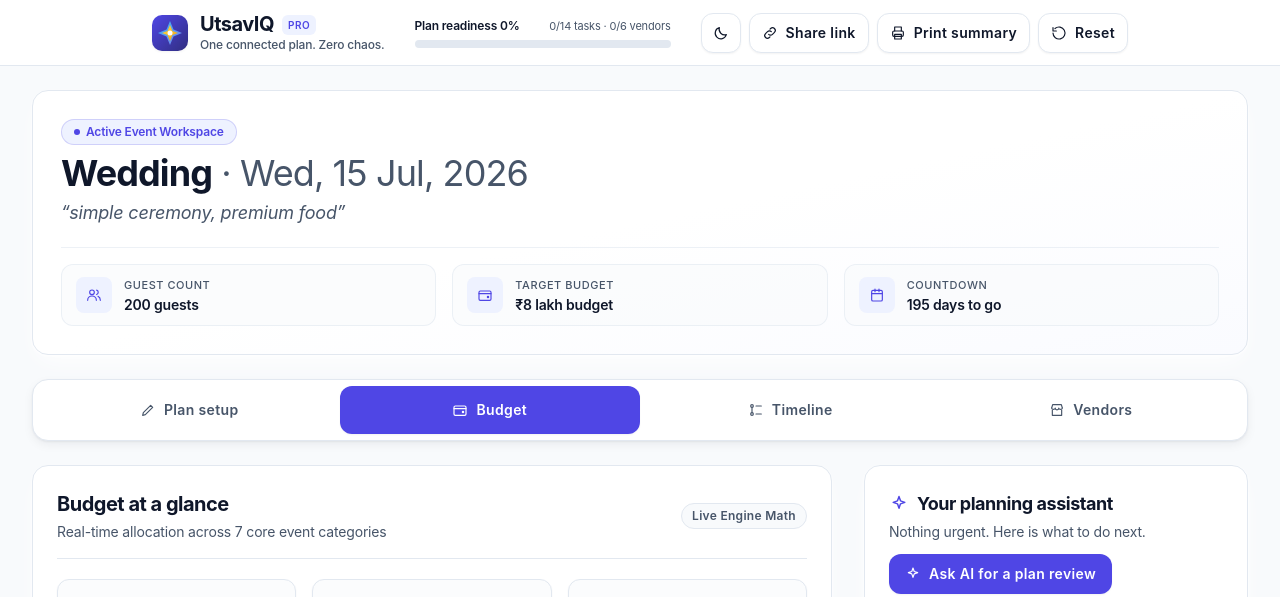
budget controls: totals, per-plate and guests › changes the total budget with flexible spelling and reverts bad input
Click the tab "Budget". click: (490, 410)
box: x1=340 y1=386 x2=640 y2=434
(page scrolled)
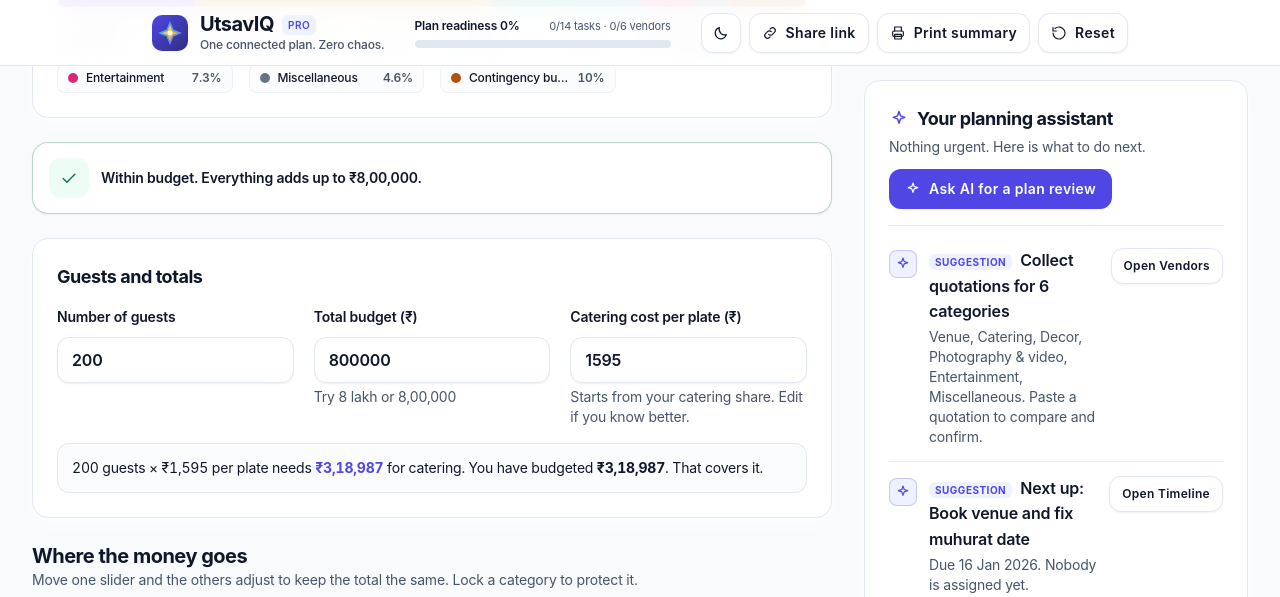
Replace the text in the field labelled "Total budget (₹)" with "10 lakh". click: (432, 360)
box: x1=314 y1=337 x2=550 y2=383
Then press Enter
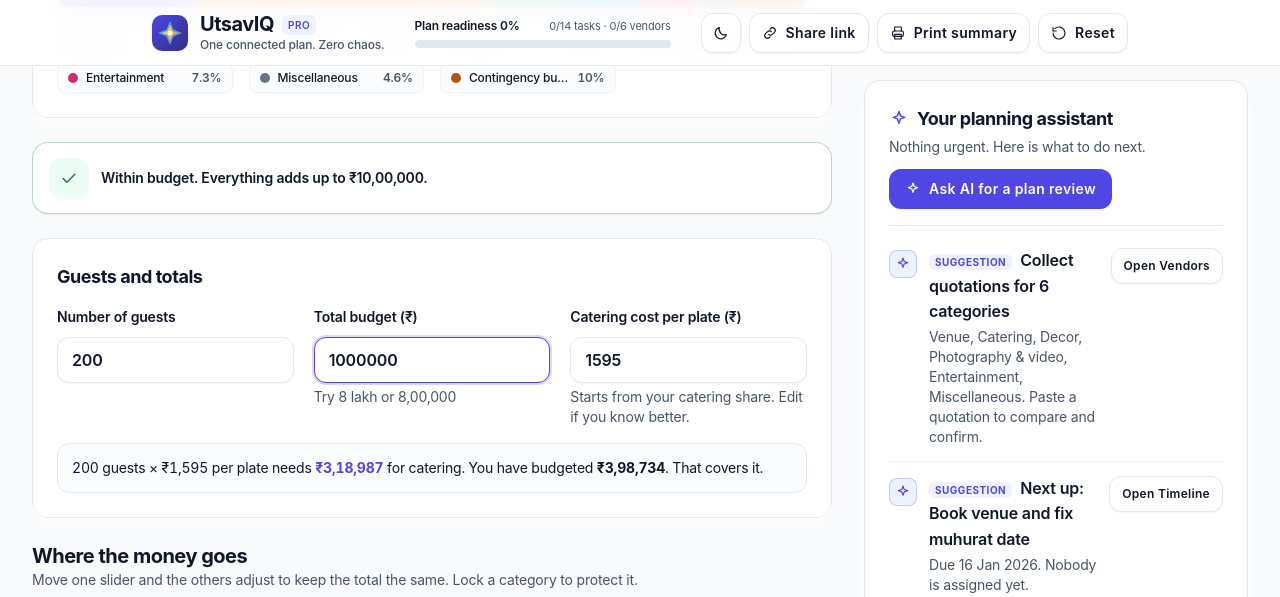
Replace the text in the field labelled "Total budget (₹)" with "lots". click: (432, 360)
box: x1=314 y1=337 x2=550 y2=383
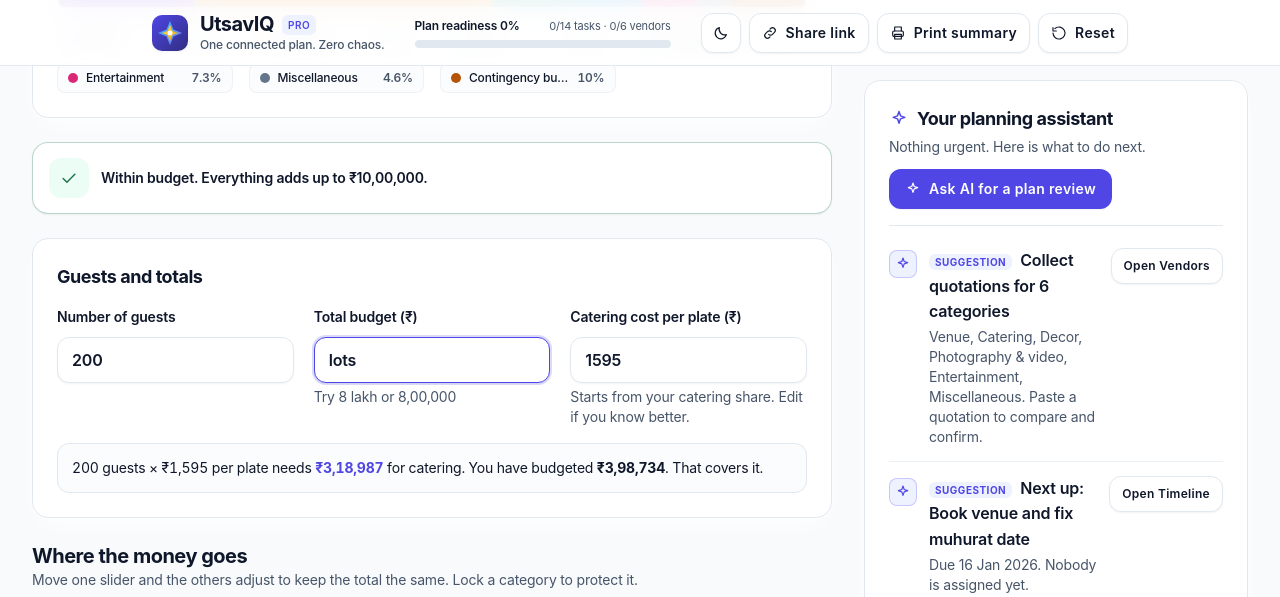
Press Tab
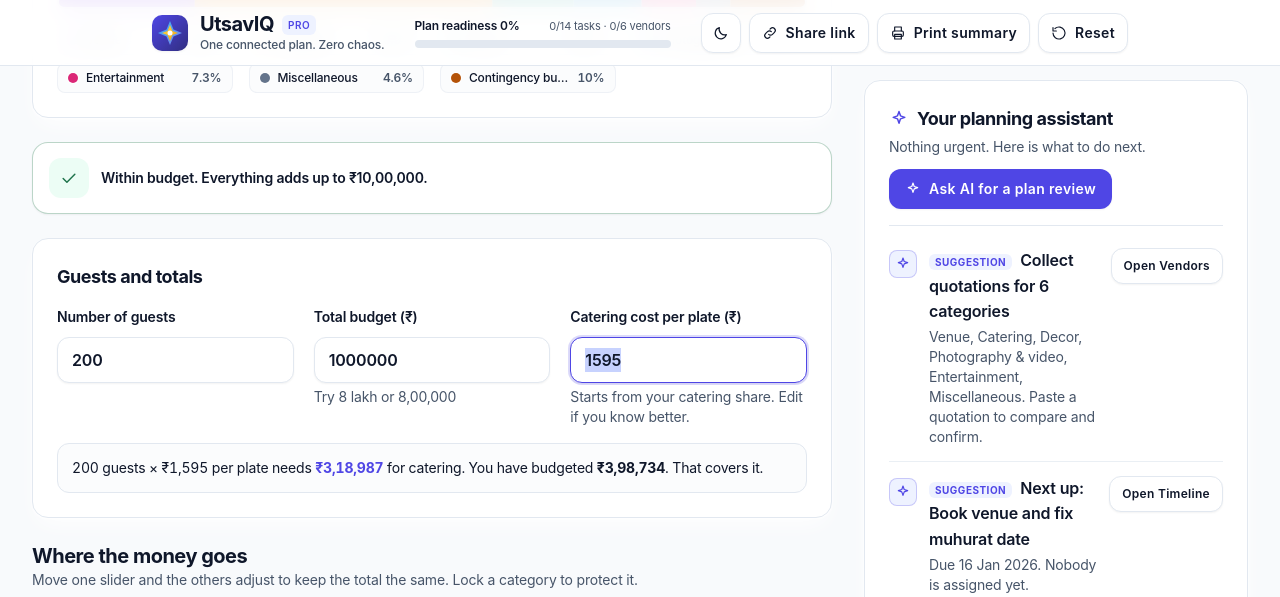
Expected: the field labelled "Total budget (₹)" holds "1000000", x1=314 y1=337 x2=550 y2=383
